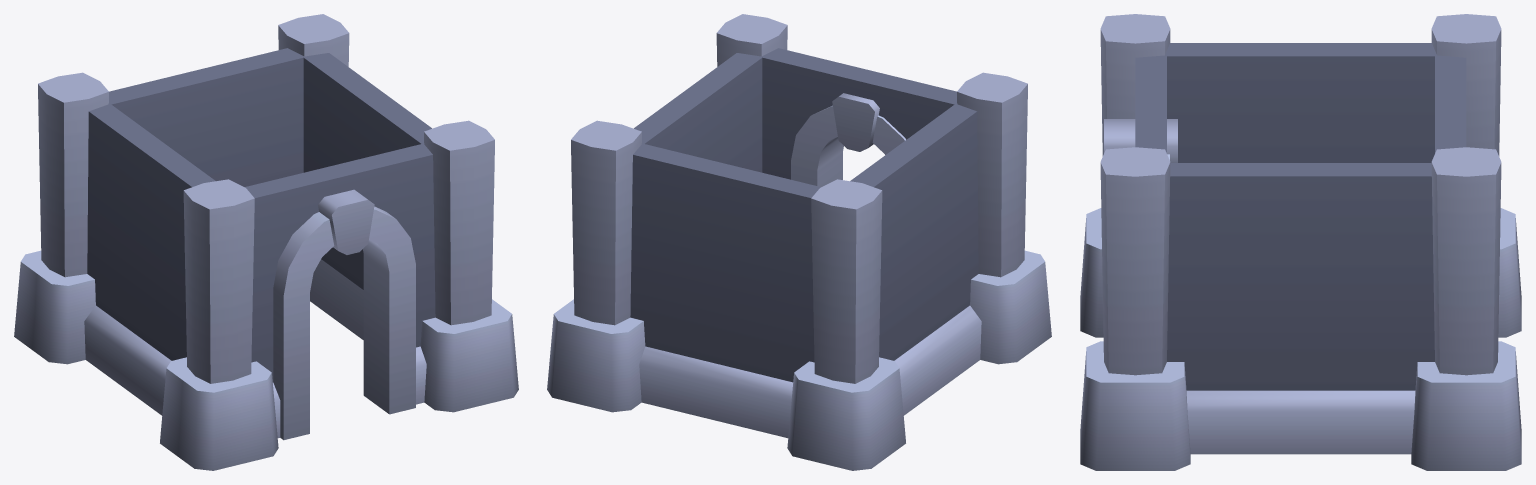
The model's file is crypt-small.glb.
3 views of the same model, side by side, from view 1: azimuth 30°, elevation 25°; view 2: azimuth 150°, elevation 25°; view 3: azimuth 270°, elevation 25° (orthographic). The views are drawn at different scales.
Visible parts, largest first — view 1: crypt-small; view 2: crypt-small; view 3: crypt-small.
Part boxes in pixels (x1,y1,x2,y2): crypt-small: (14,14,518,470); crypt-small: (547,14,1051,470); crypt-small: (1080,14,1521,470).
Bounding box in the file's own units: 1.35 × 1 × 1.4.
1 material, 1 textured.
